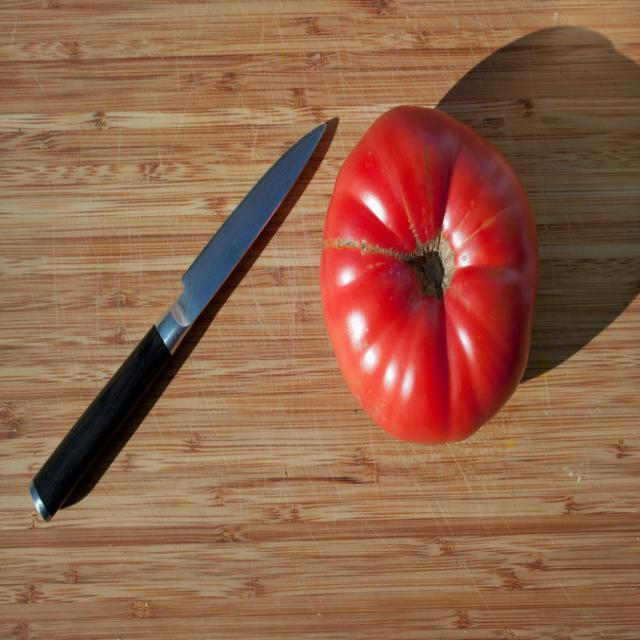Knife: (30, 124, 326, 520)
